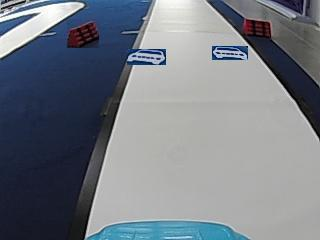bomb: (241, 17, 272, 36)
